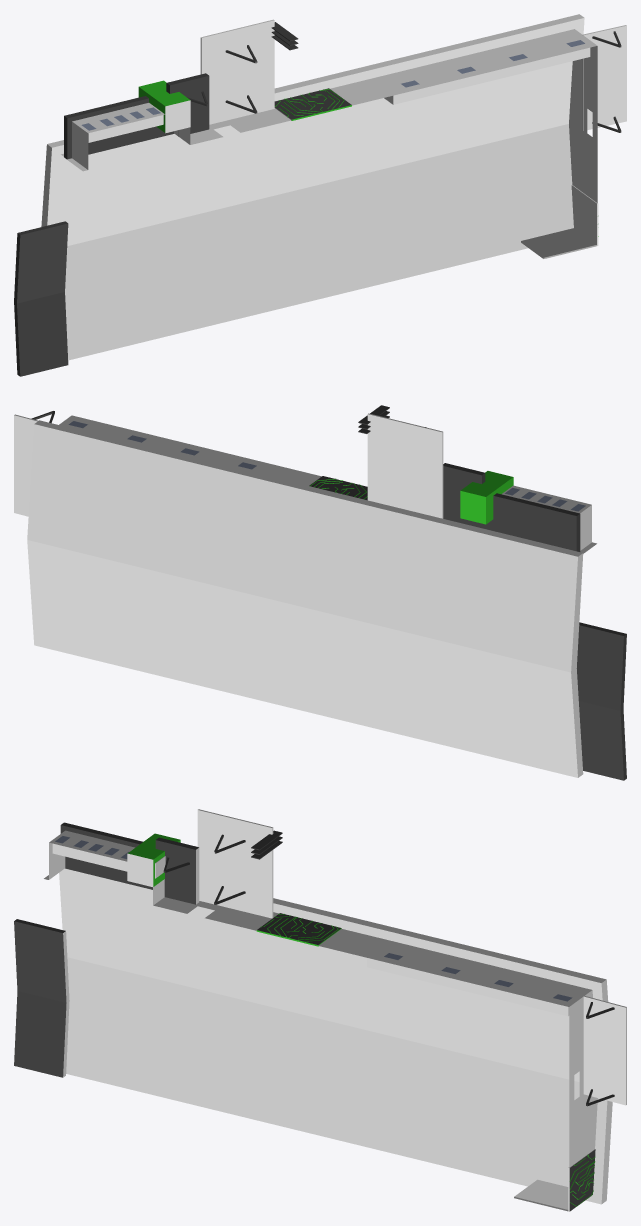
Rendered from ccti.FBX.
The picture shows the model from 3 angles, top to bottom: view 1: azimuth 30°, elevation 25°; view 2: azimuth 150°, elevation 25°; view 3: azimuth 330°, elevation 25°; orthographic projection. The views are drawn at different scales.
Visible parts, largest first — view 1: ccti; view 2: ccti; view 3: ccti.
Part boxes in pixels (x1,y1,x2,y2): ccti: (14, 14, 626, 376); ccti: (14, 405, 626, 780); ccti: (14, 809, 626, 1211).
Size of the model in its own units: 2802 by 1315 by 300.
1 material, 1 textured.
